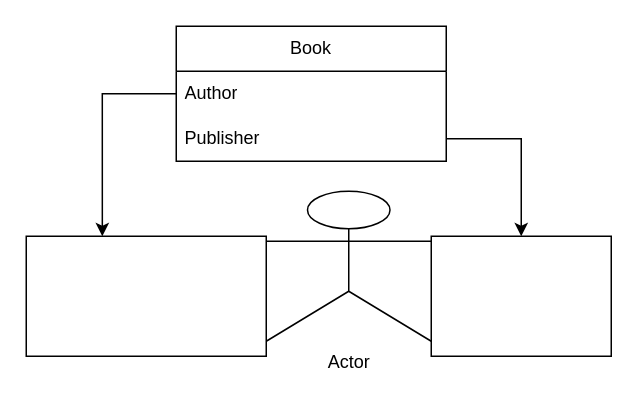
Image size: 638x399. Some labels were removed from this diagram. The shapes that lost their labels are listed below. From the top down, each one's box as (x1, y1, x2, y2) in pixels, then its label:
(25, 235, 266, 356): Idea crafting Time available Prose
(430, 235, 611, 356): Patience Prose Finance
